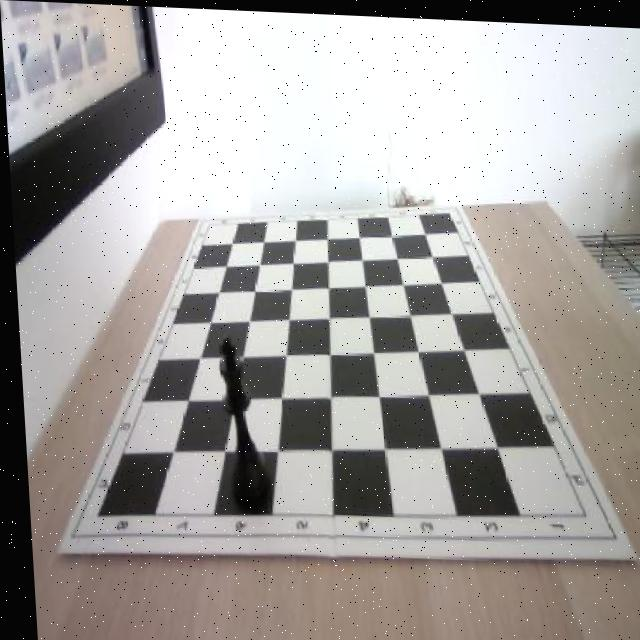black-bishop: (211, 335, 269, 511)
